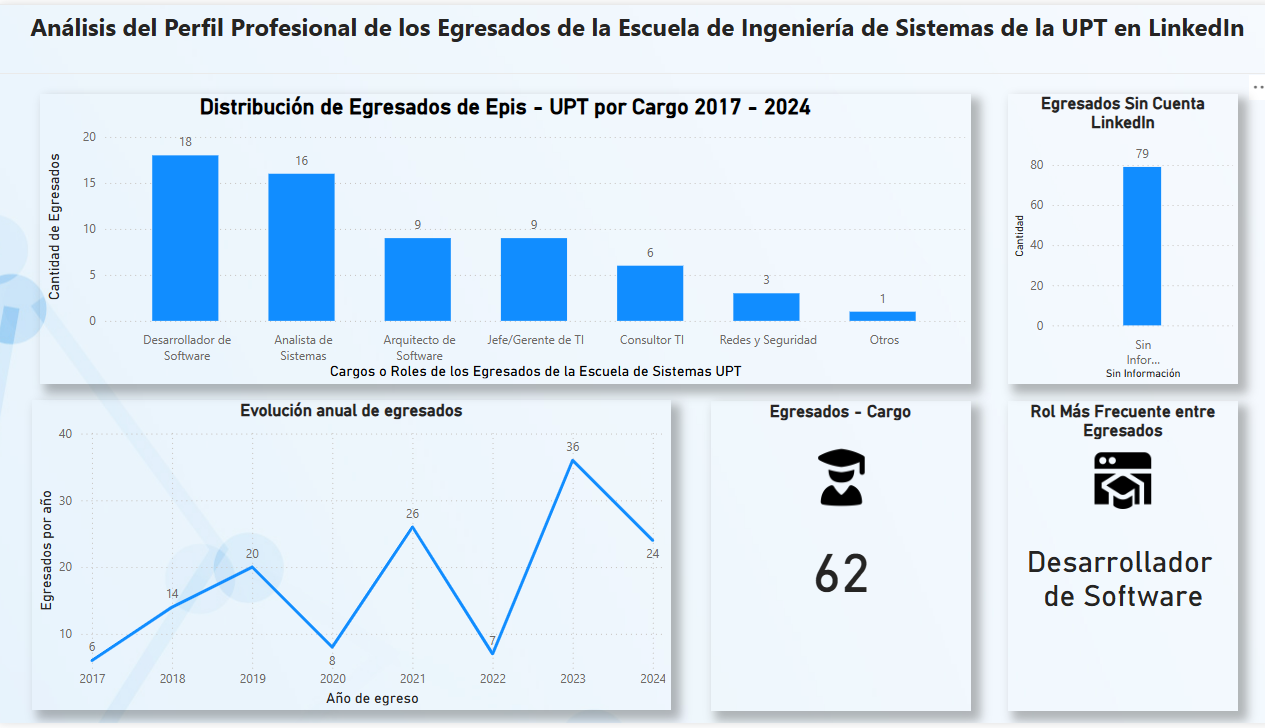

The dashboard page shown, as its layout file describes it:
{"tool":"powerbi","page":{"name":"Página 1","canvas":[1280,720],"ordinal":1},"visuals":[{"type":"clusteredColumnChart","title":"Distribución de Egresados de Epis - UPT por Cargo 2017 - 2024","fields":{"Y":["cargos.EgresadosPorCargoSinInfo"],"Category":["cargos.nombre_cargo"]},"box":[42.2,90,931.1,290],"z":0},{"type":"card","title":"Egresados - Cargo","fields":{"Values":["cargos.EgresadosPorCargoSinInfo"]},"box":[713.8,397.5,260,310],"z":1000},{"type":"lineChart","title":"Evolución anual de egresados","fields":{"Category":["egresados.anio_egreso"],"Y":["egresados.EgresadosPorAnio"]},"box":[34.3,397.1,638.6,310],"z":2000},{"type":"card","title":"Rol Más Frecuente entre Egresados","fields":{"Values":["egresados.EgresadosCargo1"]},"box":[1011.2,397.5,230,310],"z":3000},{"type":"textbox","box":[0,0,1280,70],"z":4000},{"type":"image","box":[807.5,435,72.5,76.2],"z":5000},{"type":"image","box":[1092.5,443.8,67.5,67.5],"z":6000},{"type":"columnChart","title":"Egresados Sin Cuenta LinkedIn","fields":{"Category":["cargos.nombre_cargo"],"Y":["cargos.EgresadosPorCargoSinInfo2"]},"box":[1011.1,90,230,290],"z":6001}]}

Visuals, with their boxes in screenshot pixels (x1, y1, x2, y2), scaled from the page's 1280x720 canvas onto the 1265x728 screenshot:
"Distribución de Egresados de Epis - UPT por Cargo 2017 - 2024" clusteredColumnChart: Rect(42, 91, 962, 384)
"Egresados - Cargo" card: Rect(705, 402, 962, 715)
"Evolución anual de egresados" lineChart: Rect(34, 402, 665, 715)
"Rol Más Frecuente entre Egresados" card: Rect(999, 402, 1227, 715)
textbox: Rect(0, 0, 1264, 71)
image: Rect(798, 440, 870, 517)
image: Rect(1080, 449, 1146, 517)
"Egresados Sin Cuenta LinkedIn" columnChart: Rect(999, 91, 1227, 384)
